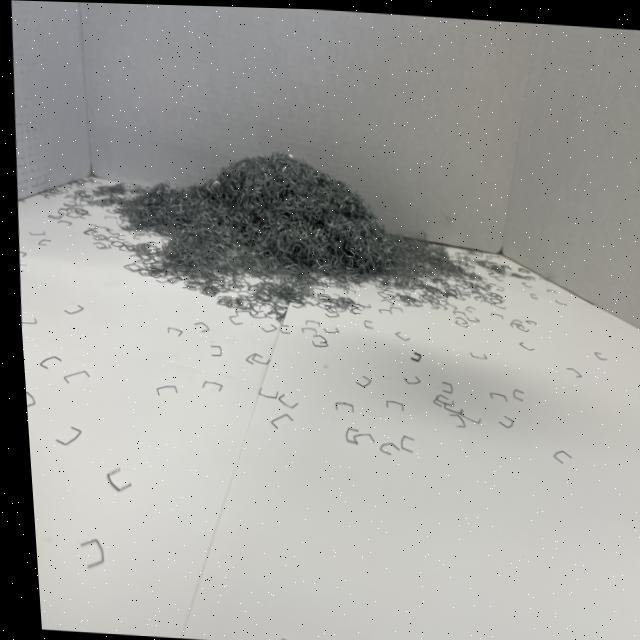staples: (100, 137, 404, 305)
